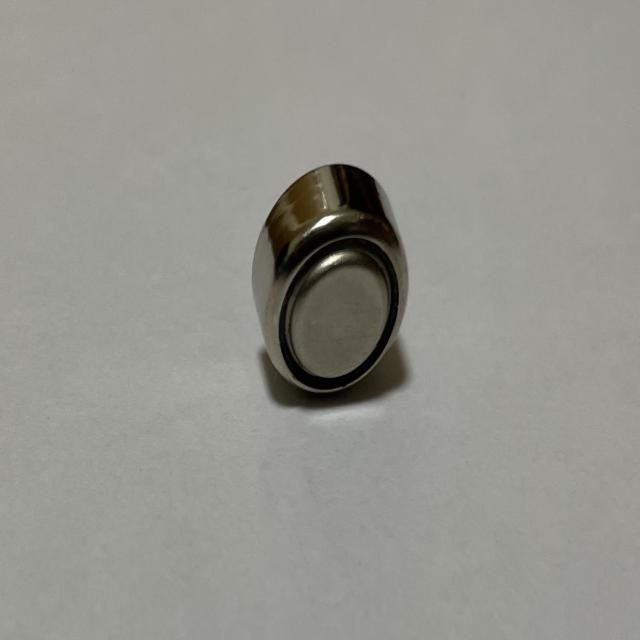COIN: (250, 159, 412, 398)
